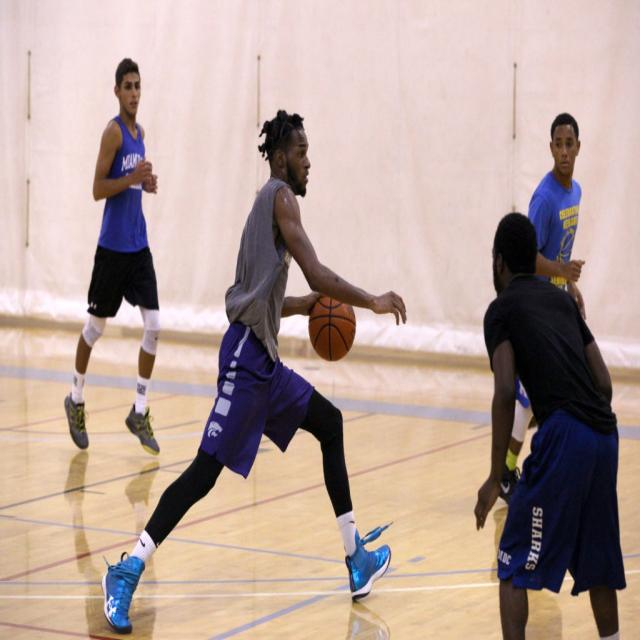body: (97, 102, 410, 639), (471, 209, 631, 639), (62, 54, 165, 460), (497, 110, 589, 508), (57, 445, 168, 639), (489, 496, 567, 640), (345, 595, 391, 638)
